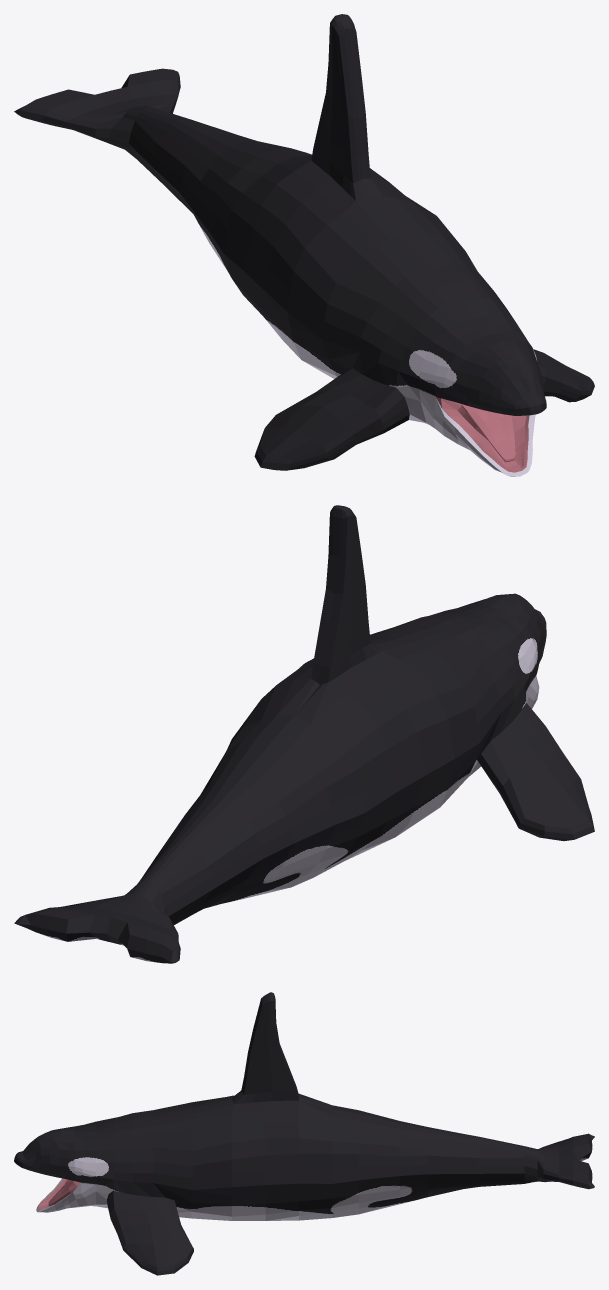
The model's file is Orca_tex.fbx.
3 renders of one model, top to bottom at view 1: azimuth 30°, elevation 25°; view 2: azimuth 150°, elevation 25°; view 3: azimuth 270°, elevation 25°, orthographic. The views are drawn at different scales.
Visible parts, largest first — view 1: Orca_cleanUp:pCylinder3; view 2: Orca_cleanUp:pCylinder3; view 3: Orca_cleanUp:pCylinder3.
Boxes of the visible parts, bbox=[...] form: Orca_cleanUp:pCylinder3: bbox=[14, 14, 594, 476]; Orca_cleanUp:pCylinder3: bbox=[14, 505, 594, 963]; Orca_cleanUp:pCylinder3: bbox=[14, 992, 594, 1275].
Bounding box in the file's own units: 6.05 × 6.13 × 13.87.
1 material, 1 textured.
